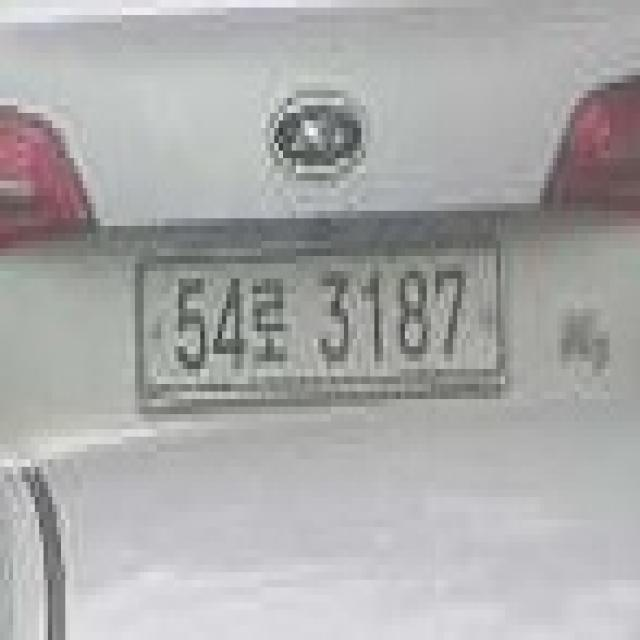1: (352, 241, 392, 391)
3: (314, 218, 348, 392)
4: (213, 241, 248, 376)
5: (166, 241, 213, 369)
7: (427, 248, 470, 376)
8: (396, 241, 427, 376)
license_plate: (126, 226, 505, 414)
lo: (240, 256, 288, 376)
